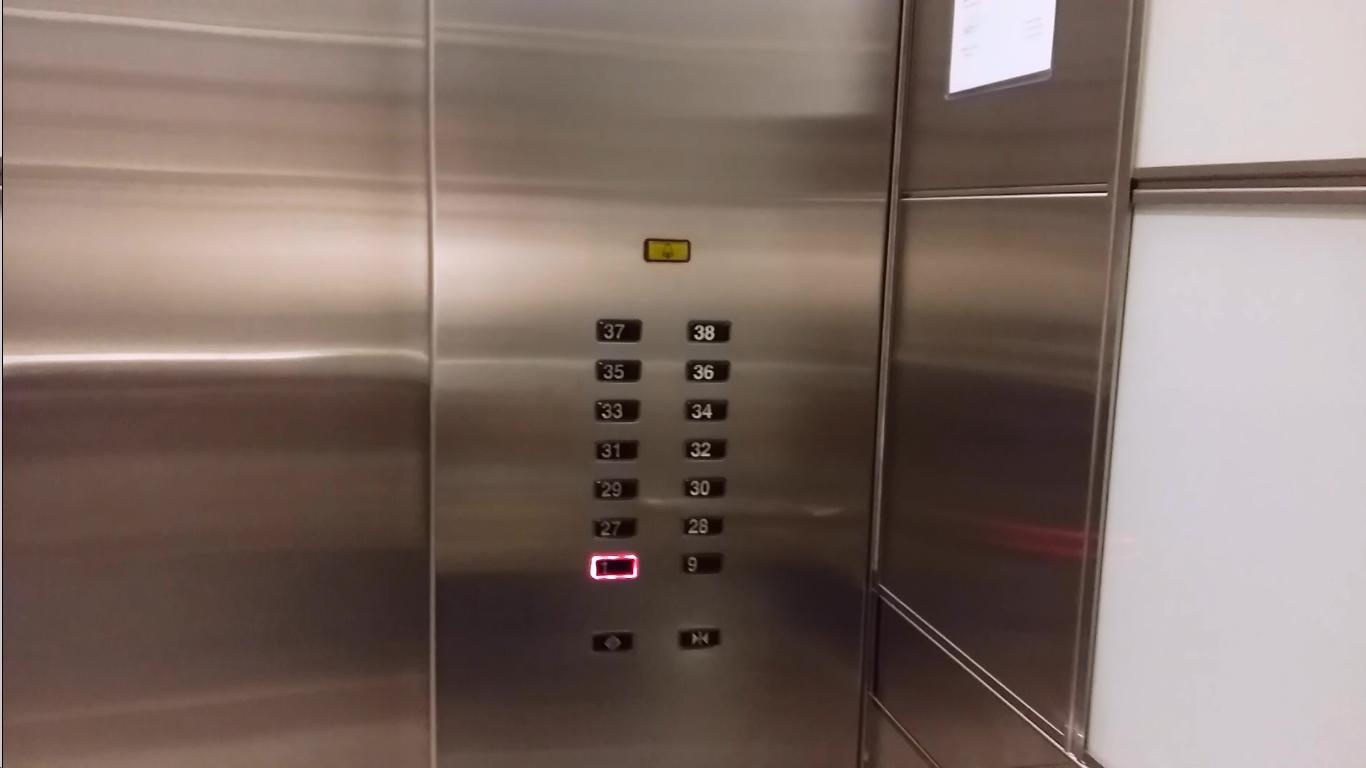1: (588, 553, 641, 582)
27: (592, 517, 638, 538)
28: (680, 513, 723, 536)
29: (591, 476, 639, 501)
30: (682, 475, 726, 500)
31: (593, 438, 638, 461)
32: (683, 436, 728, 461)
33: (593, 399, 642, 423)
34: (683, 397, 731, 423)
35: (595, 358, 642, 383)
36: (684, 358, 732, 384)
37: (594, 317, 645, 345)
38: (686, 317, 733, 346)
9: (679, 551, 724, 576)
alarm: (641, 237, 693, 264)
close: (677, 623, 722, 650)
open: (590, 631, 635, 652)
